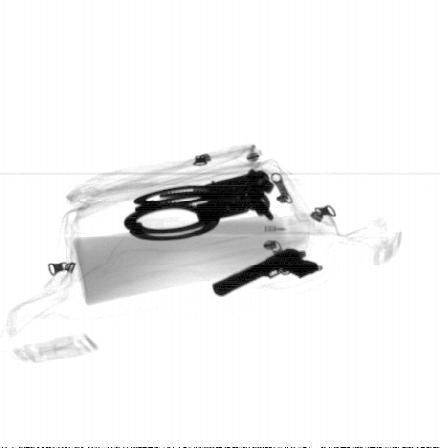Gun: (211, 245, 320, 298)
HandCuffs: (122, 167, 278, 241)
